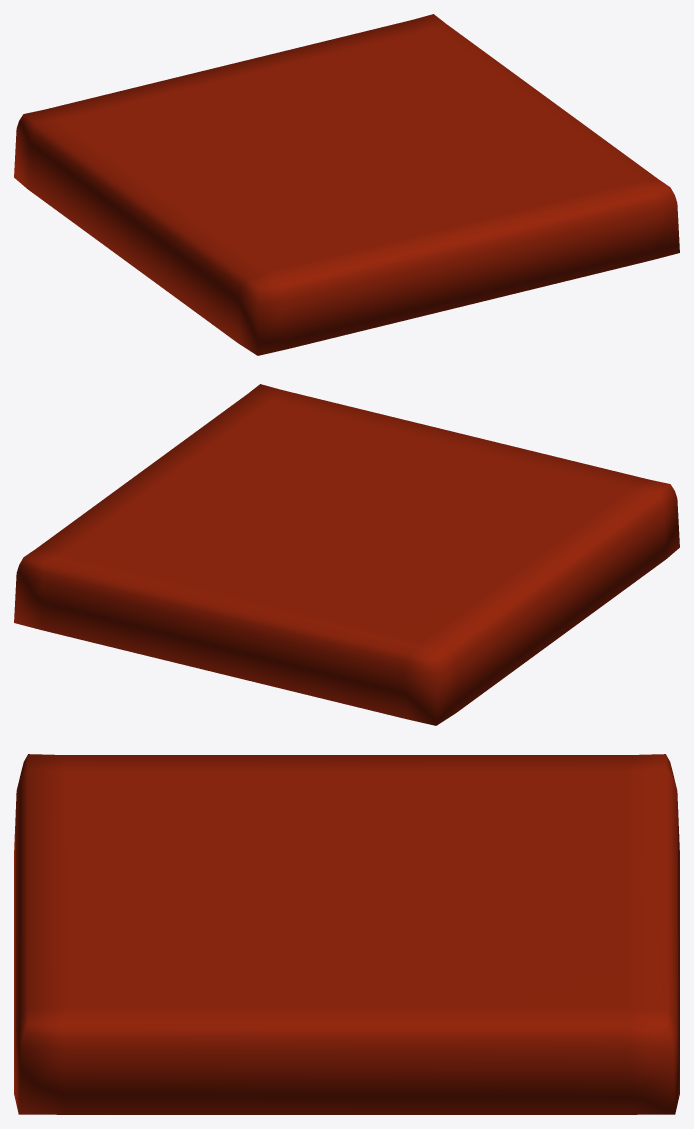
Rendered from Przycisk.gltf.
The picture shows the model from 3 angles, top to bottom: view 1: azimuth 30°, elevation 25°; view 2: azimuth 150°, elevation 25°; view 3: azimuth 270°, elevation 25°; orthographic projection. The views are drawn at different scales.
Parts seen in each view (by area): view 1: Cube.007; view 2: Cube.007; view 3: Cube.007.
Part boxes in pixels (<box>): Cube.007: <box>14,14,679,355</box>; Cube.007: <box>14,384,679,725</box>; Cube.007: <box>14,754,679,1114</box>.
Size of the model in its own units: 1.26 by 0.1813 by 1.26.
